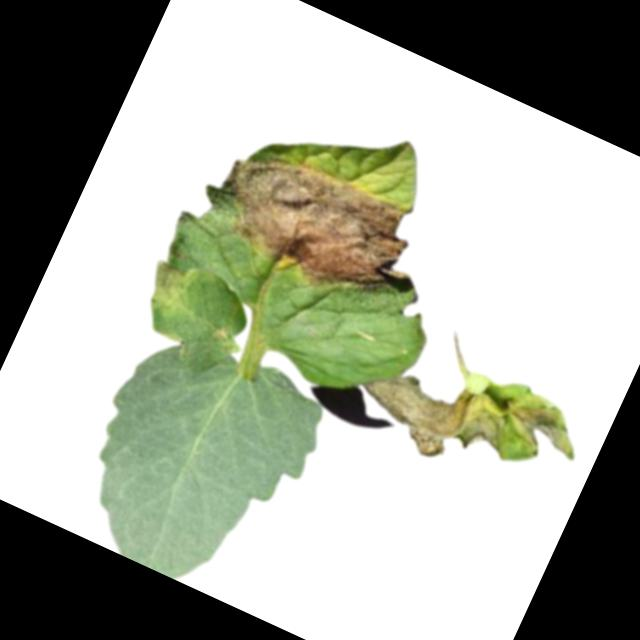Late_blight: (200, 131, 443, 324), (348, 323, 591, 512), (137, 250, 207, 325)
